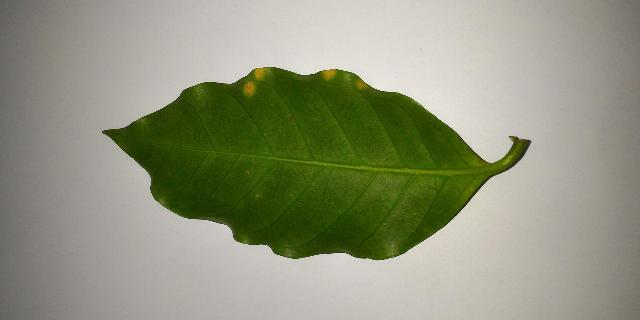miner: (243, 68, 267, 96), (322, 69, 337, 80), (357, 78, 368, 89)
